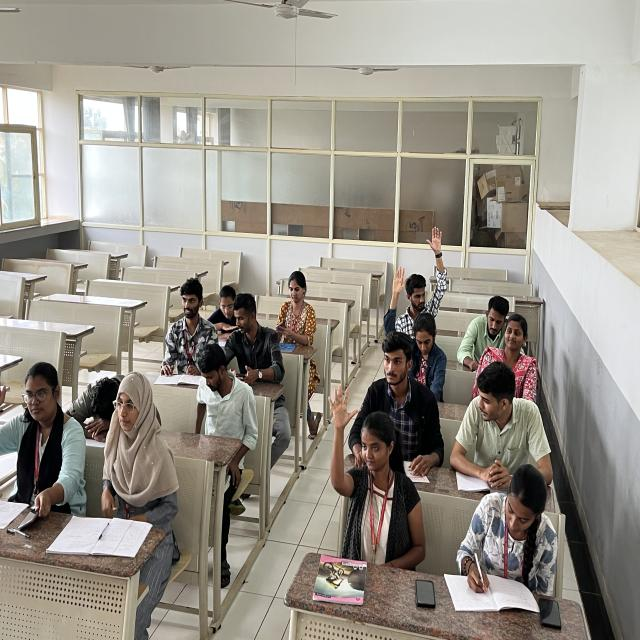Hand Rising: (324, 385, 419, 548), (0, 357, 82, 502), (390, 222, 454, 332), (378, 267, 441, 347)
Using Phone: (230, 291, 285, 380)
Writing: (456, 472, 599, 617), (457, 293, 508, 373)
